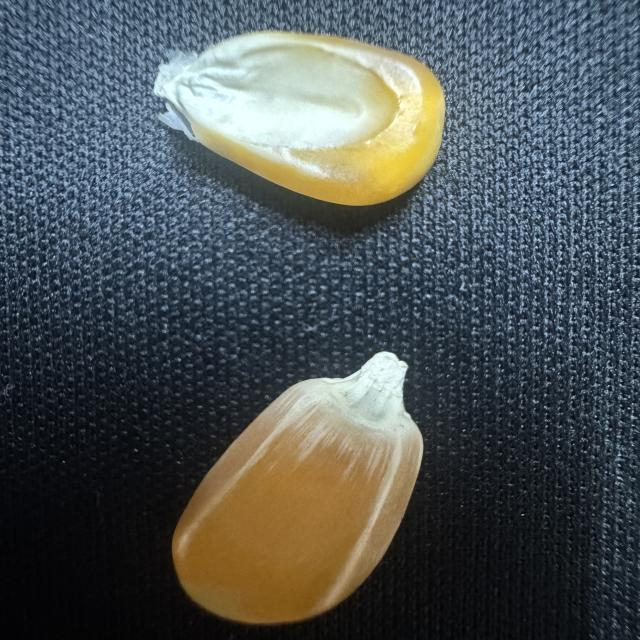Good-Seed: (166, 342, 434, 635), (149, 24, 458, 210)
